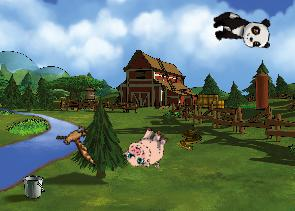eagle: (50, 118, 106, 167)
panda: (209, 10, 273, 50)
pig: (120, 121, 173, 175)
